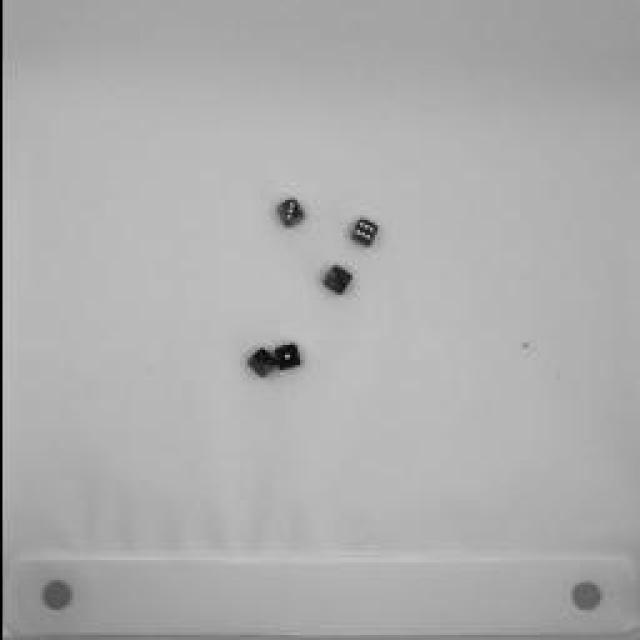dice_1: (275, 344, 300, 371)
dice_3: (275, 198, 305, 230)
dice_5: (244, 345, 274, 380), (320, 265, 350, 295)
dice_6: (345, 218, 380, 250)
